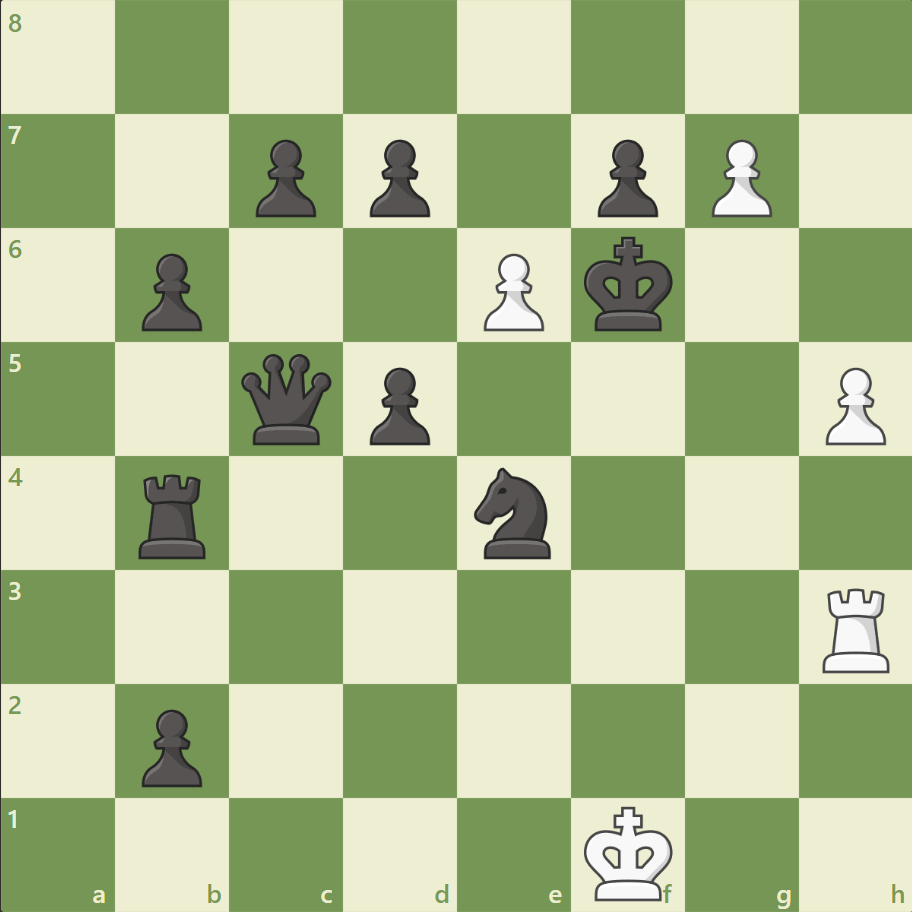K: (579, 798, 679, 906)
P: (701, 132, 776, 223), (474, 246, 549, 337), (815, 359, 889, 450)
R: (814, 579, 897, 676)
k: (579, 231, 679, 339)
n: (465, 461, 562, 564)
p: (247, 132, 322, 223), (133, 246, 208, 337), (133, 700, 208, 791), (361, 132, 435, 223), (588, 132, 662, 223), (361, 359, 435, 450)
q: (237, 349, 336, 449)
r: (133, 466, 215, 563)
